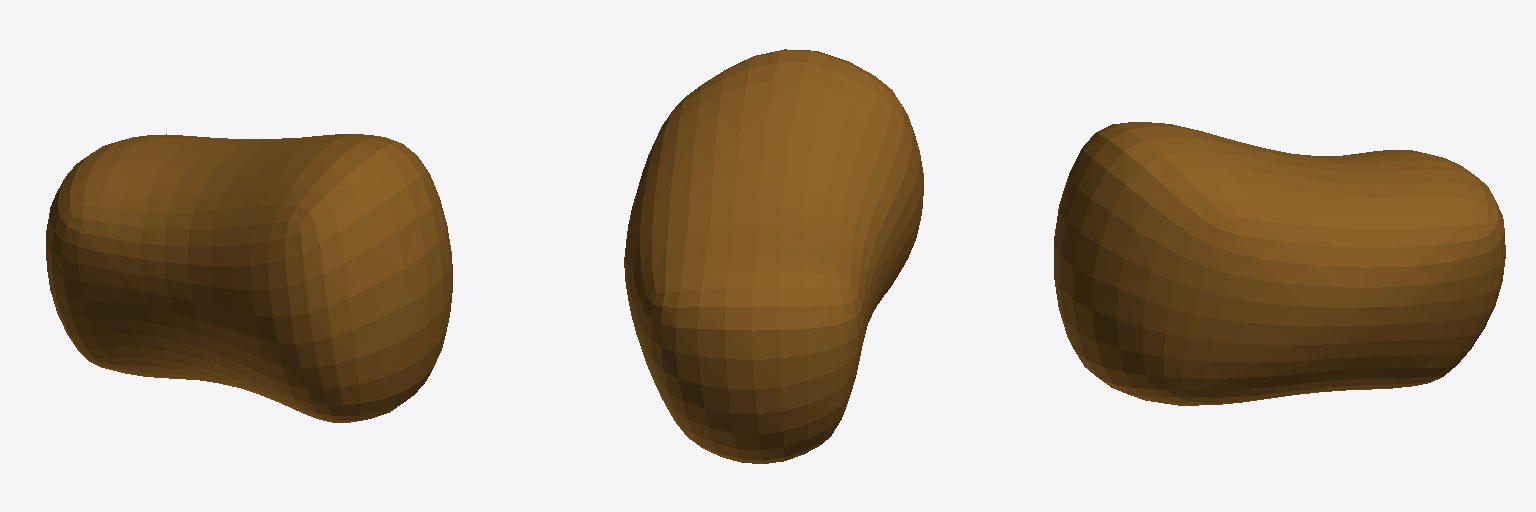
The model's file is fing1_2.obj.
3 renders of one model, left to right at view 1: azimuth 30°, elevation 25°; view 2: azimuth 150°, elevation 25°; view 3: azimuth 270°, elevation 25°, orthographic.
Parts seen in each view (by area): view 1: f1o2; view 2: f1o2; view 3: f1o2.
Part boxes in pixels (left/top/right/bottom): f1o2: left=46, top=134, right=452, bottom=422; f1o2: left=624, top=49, right=923, bottom=463; f1o2: left=1054, top=122, right=1505, bottom=405.
Size of the model in its own units: 0.9828 by 0.9378 by 1.35.